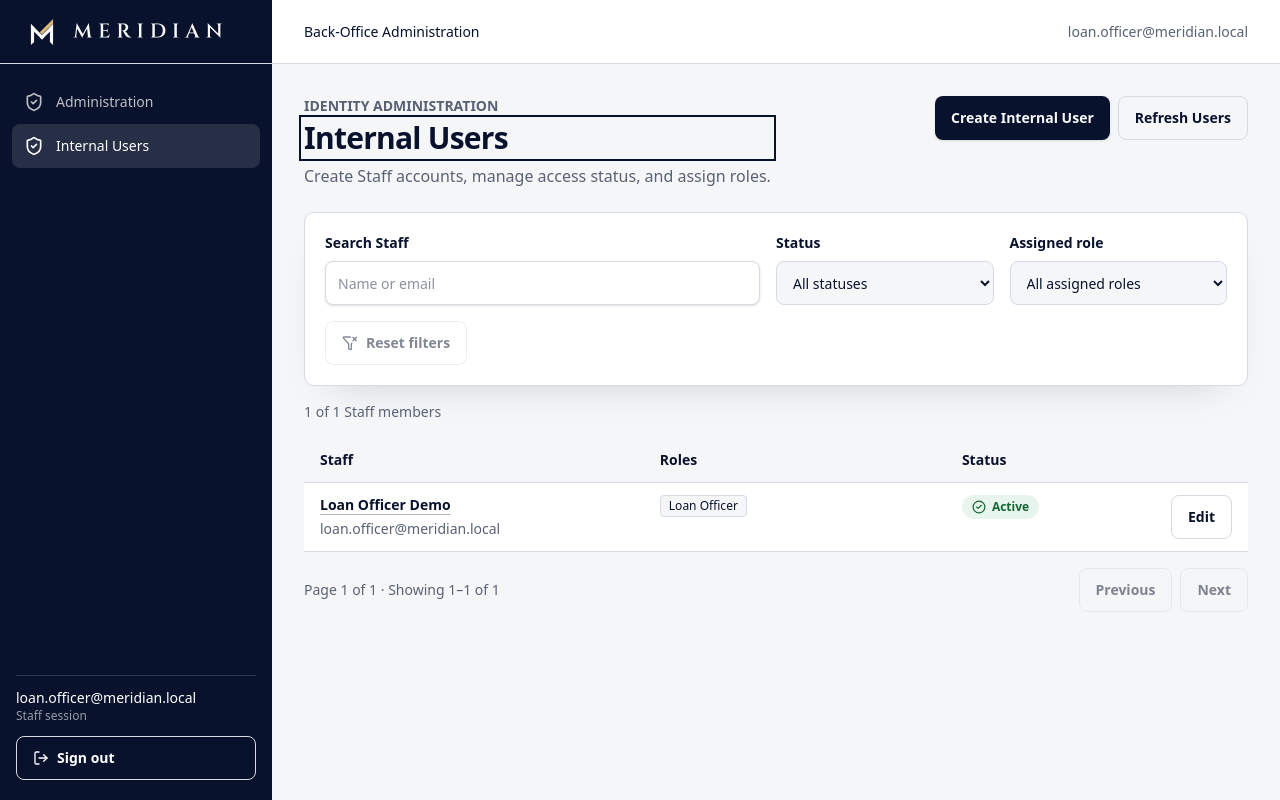
Test: Internal User administration page › sends a setup link only on an explicit action and never retries an unknown result
Later steps or results of the test are not shown.
What coordinates should you click on to do the following:
click the button with aria-label "Manage Loan Officer Demo"
I would click on:
 (385, 505)
Its box is [320,495,451,515].
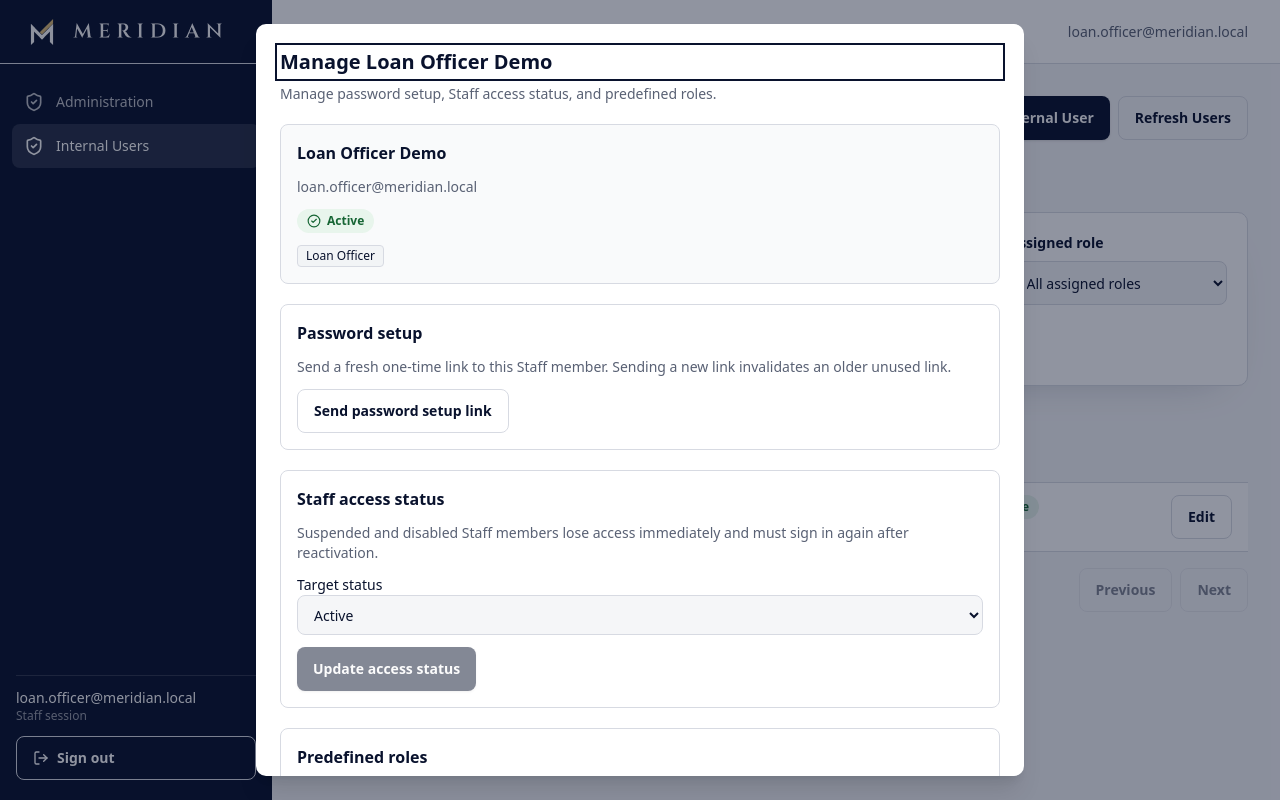
What coordinates should you click on to do the following:
click the button "Send password setup link"
I would click on:
 (403, 411)
Its box is [297,389,509,433].
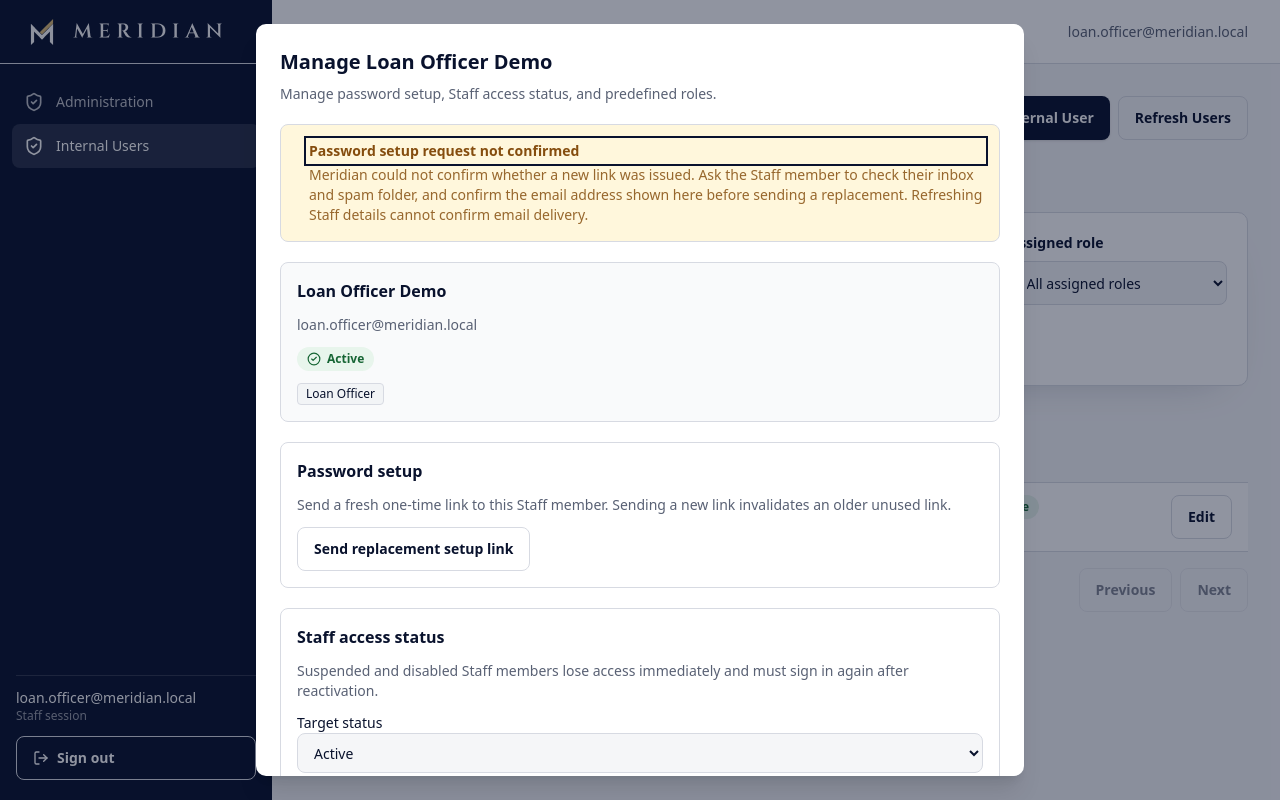
Expected: the button "Send replacement setup link" is enabled, [297,527,530,571]
Expected: the text "Meridian could not confirm whether a new link was issued" is shown, [309,165,982,224]
